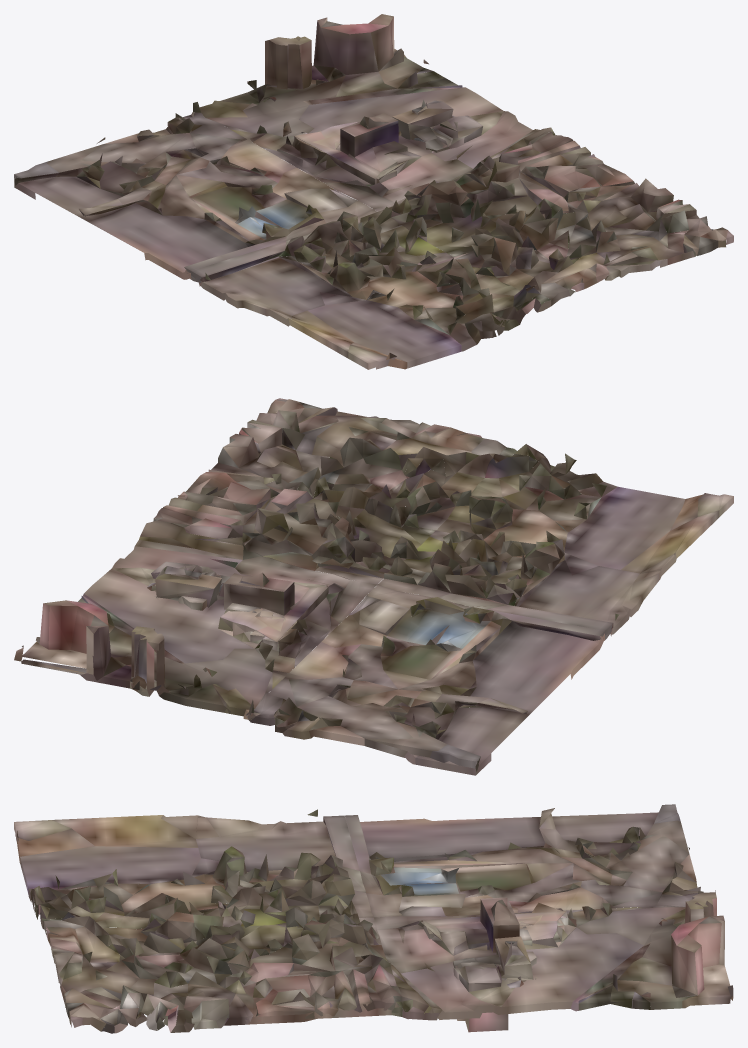
The picture shows the model from 3 angles, top to bottom: view 1: azimuth 30°, elevation 25°; view 2: azimuth 150°, elevation 25°; view 3: azimuth 270°, elevation 25°; orthographic projection. The views are drawn at different scales.
Parts seen in each view (by area): view 1: Mesh_0; view 2: Mesh_0; view 3: Mesh_0.
Part boxes in pixels (box(x1,y1,x2,y2)): Mesh_0: box(14, 14, 733, 369); Mesh_0: box(14, 398, 733, 775); Mesh_0: box(14, 804, 733, 1033).
Size of the model in its own units: 533 by 91.91 by 660.
2 materials, 2 textured.
